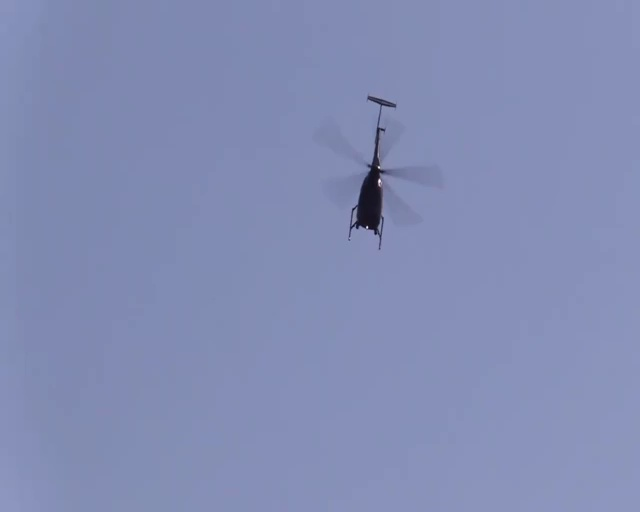HELICOPTER: (313, 93, 445, 250)
